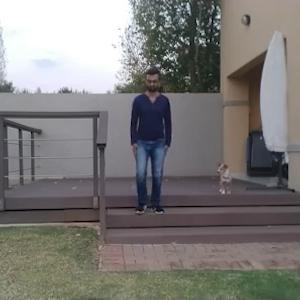follow: (127, 64, 167, 223)
